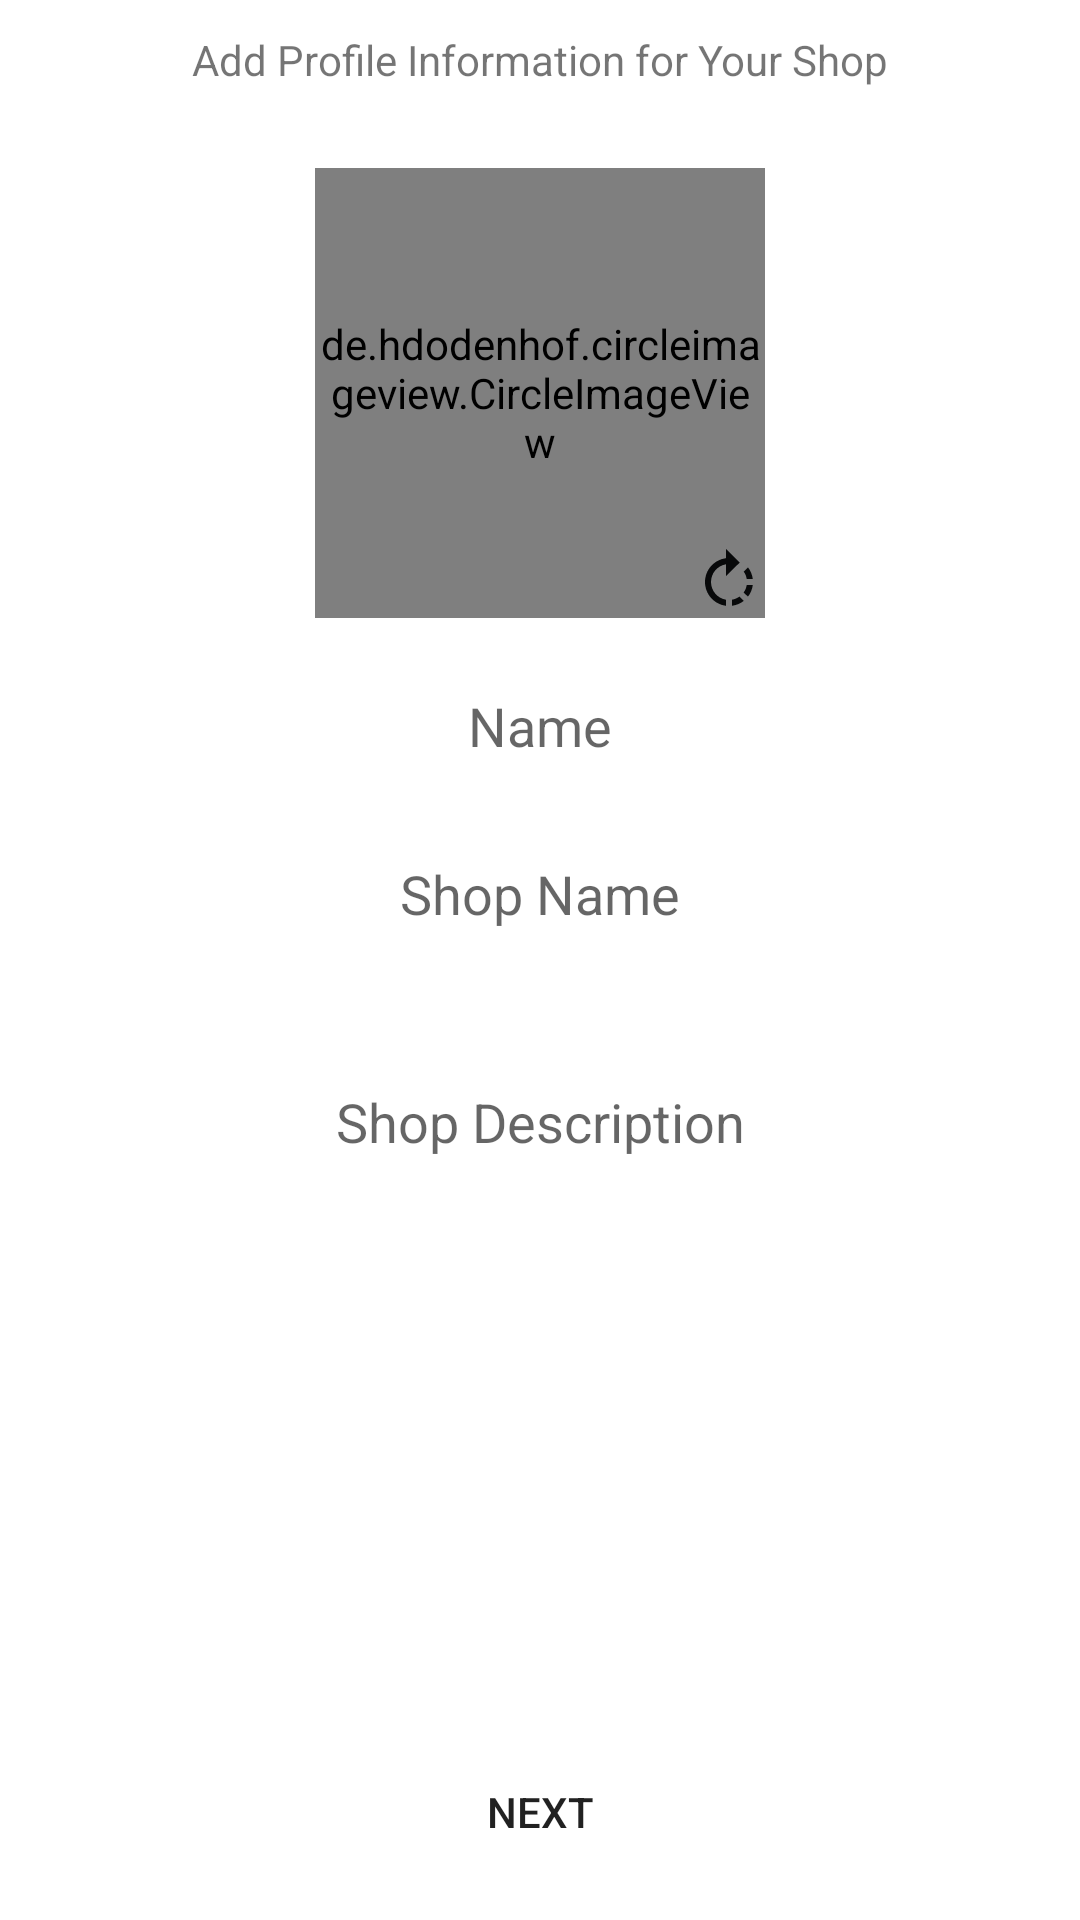

Icon click points for this 1080x1920 phone screenshot, format (x=x, y=y):
rotate: (x=729, y=577)
